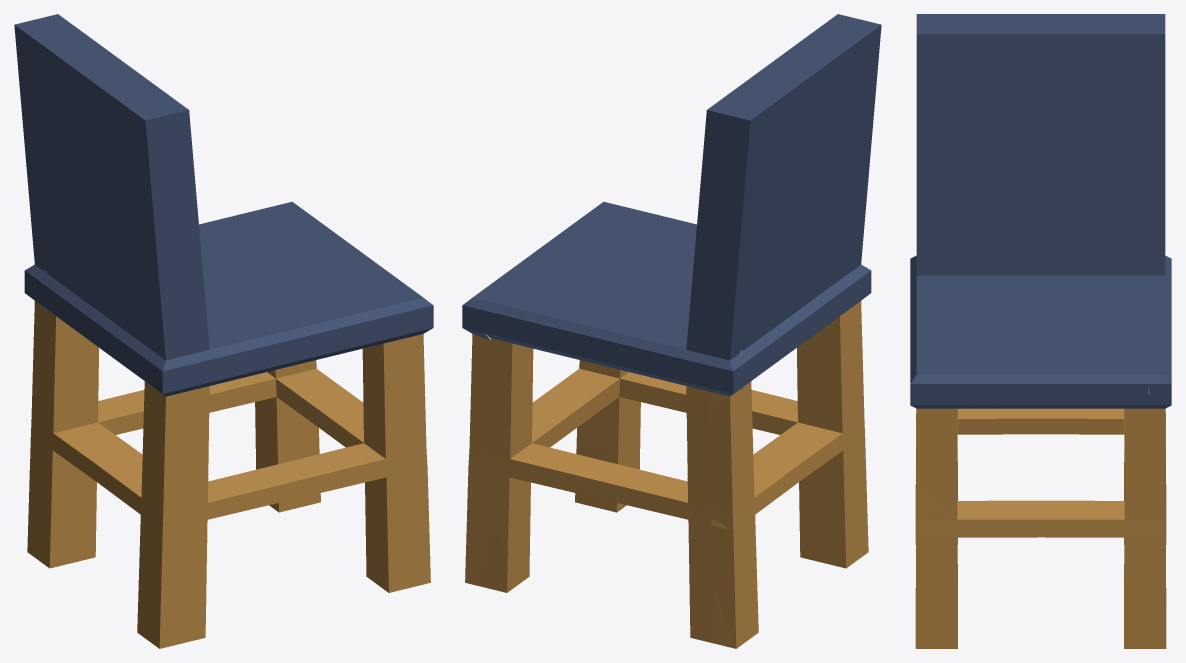
File: shattered_chair.fbx
3 views of the same model, side by side, from view 1: azimuth 30°, elevation 25°; view 2: azimuth 150°, elevation 25°; view 3: azimuth 270°, elevation 25° (orthographic). The views are drawn at different scales.
Parts seen in each view (by area): view 1: Cube, Cube_cell.075, Cube_cell.047, Cube_cell.053, Cube_cell.081, Cube_cell.072, Cube_cell.031, Cube_cell.044, Cube_cell.060, Cube_cell.014, Cube_cell.040, Cube_cell.018 (+19 smaller); view 2: Cube, Cube_cell.056, Cube_cell.084, Cube_cell.024, Cube_cell.042, Cube_cell.075, Cube_cell.083, Cube_cell.020, Cube_cell.016, Cube_cell.086, Cube_cell.071, Cube_cell.049 (+22 smaller); view 3: Cube, Cube_cell.093, Cube_cell.066, Cube_cell.085, Cube_cell.090, Cube_cell.022, Cube_cell.092, Cube_cell.015, Cube_cell.044, Cube_cell.058, Cube_cell.089, Cube_cell.007 (+12 smaller).
Part boxes in pixels (x1,y1,x2,y2): Cube: [14, 14, 433, 648]; Cube_cell.075: [276, 388, 387, 479]; Cube_cell.047: [188, 231, 299, 371]; Cube_cell.053: [151, 234, 187, 377]; Cube_cell.081: [158, 105, 199, 235]; Cube_cell.072: [209, 365, 312, 453]; Cube_cell.031: [150, 515, 184, 589]; Cube_cell.044: [389, 392, 426, 467]; Cube_cell.060: [76, 366, 143, 437]; Cube_cell.014: [42, 371, 95, 461]; Cube_cell.040: [53, 312, 94, 373]; Cube_cell.018: [390, 459, 429, 528]; Cube: [462, 14, 881, 648]; Cube_cell.056: [586, 214, 695, 280]; Cube_cell.084: [696, 104, 733, 236]; Cube_cell.024: [581, 388, 686, 461]; Cube_cell.042: [596, 231, 707, 367]; Cube_cell.075: [565, 361, 686, 406]; Cube_cell.083: [489, 464, 598, 534]; Cube_cell.020: [729, 103, 775, 239]; Cube_cell.016: [596, 350, 707, 448]; Cube_cell.086: [752, 365, 819, 443]; Cube_cell.071: [708, 235, 747, 375]; Cube_cell.049: [599, 493, 710, 582]; Cube: [910, 14, 1171, 648]; Cube_cell.093: [1041, 155, 1144, 315]; Cube_cell.066: [937, 34, 1040, 154]; Cube_cell.085: [937, 155, 1040, 278]; Cube_cell.090: [1039, 395, 1144, 469]; Cube_cell.022: [1124, 458, 1165, 519]; Cube_cell.092: [1145, 525, 1165, 592]; Cube_cell.015: [1081, 490, 1144, 592]; Cube_cell.044: [916, 456, 960, 527]; Cube_cell.058: [937, 587, 957, 648]; Cube_cell.089: [1145, 397, 1167, 463]; Cube_cell.007: [915, 594, 936, 648].
Size of the model in its own units: 43.41 by 92.19 by 51.73.
